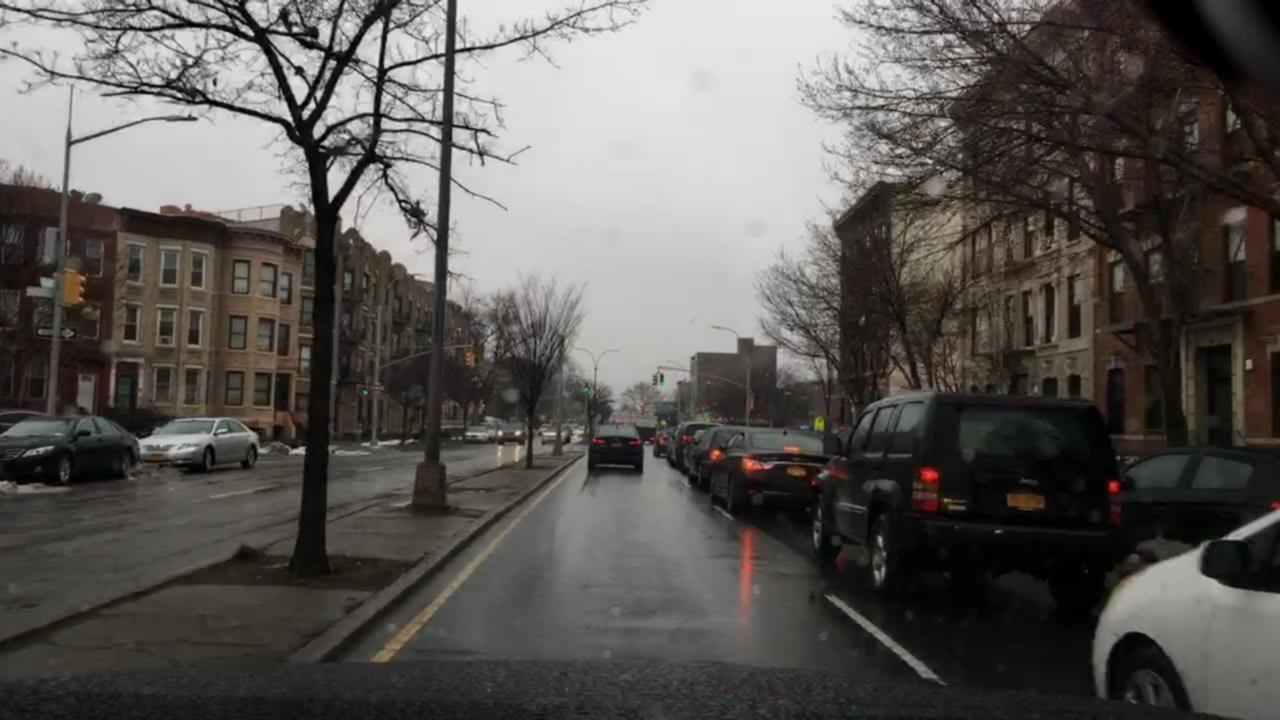jeep: (1012, 473, 1044, 492)
